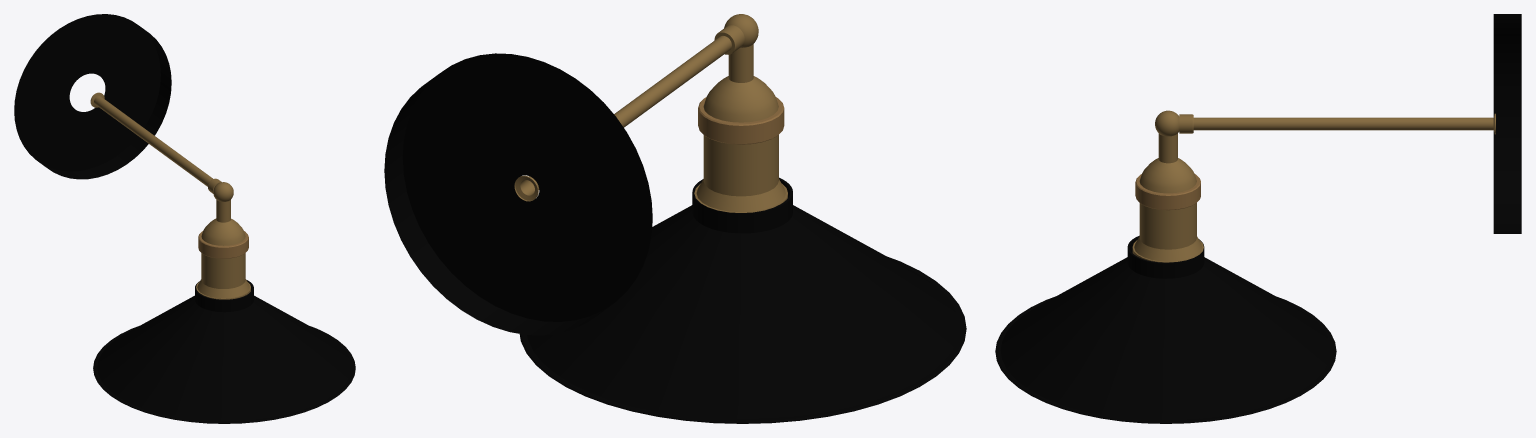
File: walllamp.fbx
The picture shows the model from 3 angles, left to right: view 1: azimuth 30°, elevation 25°; view 2: azimuth 150°, elevation 25°; view 3: azimuth 270°, elevation 25°; orthographic projection. The views are drawn at different scales.
Parts seen in each view (by area): view 1: Circle.001, Circle.004, Circle; view 2: Circle.001, Circle.004, Circle; view 3: Circle.001, Circle, Circle.004.
Part boxes in pixels (bbox=[...]): Circle.001: bbox=[93, 280, 355, 423]; Circle.004: bbox=[14, 14, 171, 179]; Circle: bbox=[90, 92, 250, 299]; Circle.001: bbox=[519, 177, 966, 423]; Circle.004: bbox=[384, 53, 652, 335]; Circle: bbox=[514, 14, 787, 212]; Circle.001: bbox=[995, 235, 1336, 423]; Circle: bbox=[1132, 110, 1495, 262]; Circle.004: bbox=[1493, 14, 1521, 233].
Size of the model in its own units: 307 by 360 by 473.
